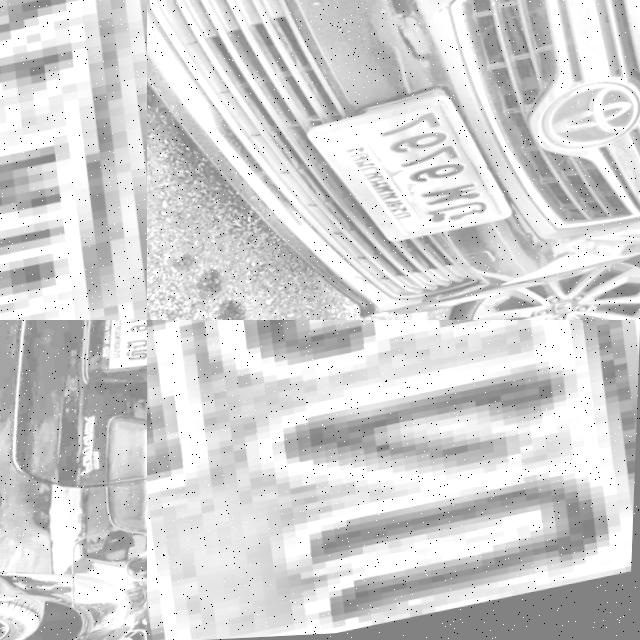license-plate: (147, 320, 640, 640), (0, 0, 147, 320), (299, 84, 526, 265), (106, 320, 147, 373)
